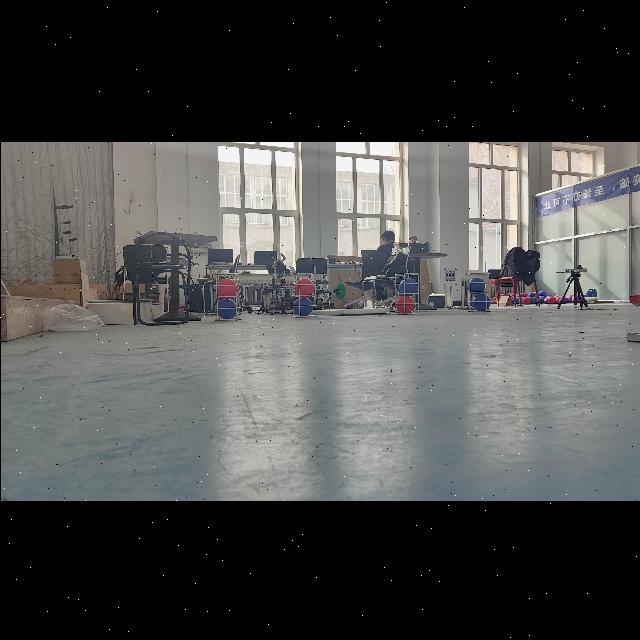B: (216, 297, 237, 317), (398, 277, 417, 295), (471, 292, 489, 310), (294, 296, 312, 314), (466, 276, 484, 292)
R: (216, 277, 237, 297), (293, 277, 313, 297), (394, 294, 412, 312)
S: (212, 270, 242, 322), (392, 268, 422, 316), (288, 270, 318, 318), (464, 268, 490, 314)
